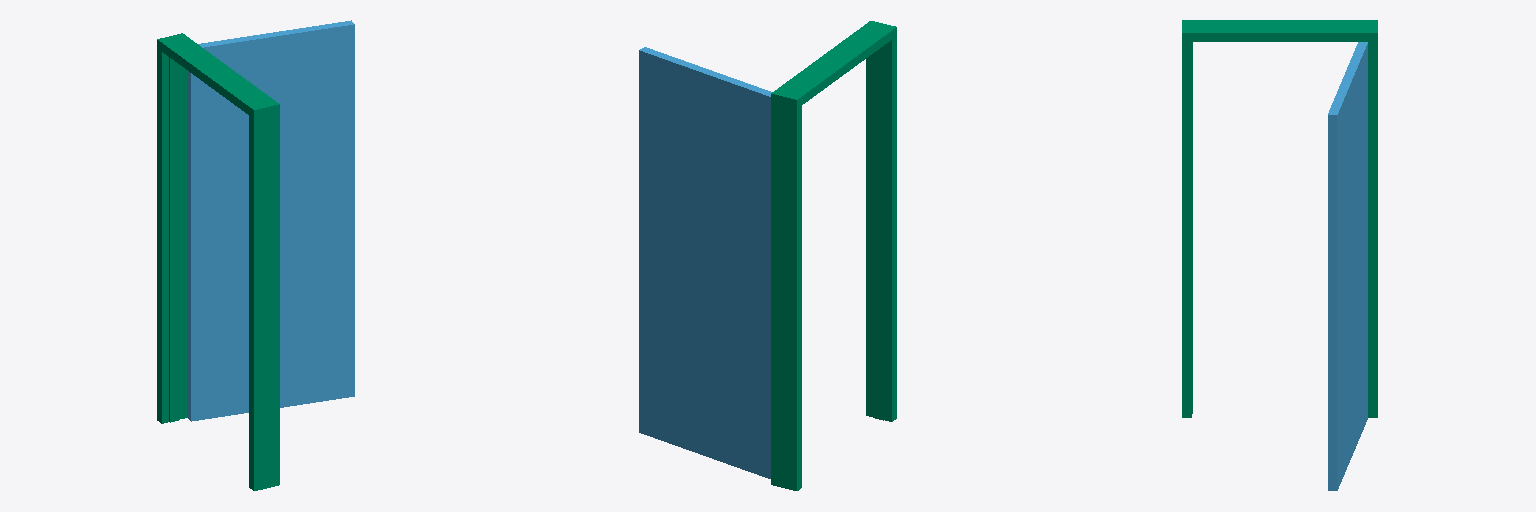
The robot description file, URDF, robot "partnet_36ae8016a104fc855a831e480312527":
<?xml version="1.0" ?>
<robot name="partnet_36ae8016a104fc855a831e480312527">
	<link name="base"/>
	<link name="link_0">
		<visual name="surface_board-3">
			<origin xyz="0.185722201829581 -0.7968090000000005 -0.19679270717073824"/>
			<geometry>
				<mesh filename="textured_objs/original-2.obj"/>
			</geometry>
		</visual>
		<collision>
			<origin xyz="0.185722201829581 -0.7968090000000005 -0.19679270717073824"/>
			<geometry>
				<mesh filename="textured_objs/original-2.obj"/>
			</geometry>
		</collision>
	</link>
	<joint name="joint_0" type="revolute">
		<origin xyz="-0.185722201829581 0.7968090000000005 0.19679270717073824"/>
		<axis xyz="0 1 0"/>
		<child link="link_0"/>
		<parent link="link_1"/>
		<limit lower="-1.413716694115407" upper="0.15707963267948966"/>
	</joint>
	<link name="link_1">
		<visual name="outside_frame-4">
			<origin xyz="0 0 0"/>
			<geometry>
				<mesh filename="textured_objs/original-1.obj"/>
			</geometry>
		</visual>
		<collision>
			<origin xyz="0 0 0"/>
			<geometry>
				<mesh filename="textured_objs/original-1.obj"/>
			</geometry>
		</collision>
	</link>
	<joint name="joint_1" type="fixed">
		<origin rpy="1.570796326794897 0 -1.570796326794897" xyz="0 0 0"/>
		<child link="link_1"/>
		<parent link="base"/>
	</joint>
</robot>

--- What the picture shows (computed from the rendered views, not written in the file) ---
Views: 3 orthographic renders of the robot side by side, from view 1: azimuth 30°, elevation 25°; view 2: azimuth 150°, elevation 25°; view 3: azimuth 270°, elevation 25°.
Robot: partnet_36ae8016a104fc855a831e480312527 — 3 links, 2 joints (1 revolute, 1 fixed); root link base; default pose: all joints at 0.
Links seen in each view (by area): view 1: link_0, link_1; view 2: link_0, link_1; view 3: link_0, link_1.
Boxes of the visible links, x1,y1,x2,y2 form: link_0: [188, 20, 354, 421]; link_1: [157, 33, 279, 490]; link_0: [639, 47, 771, 478]; link_1: [771, 21, 896, 490]; link_0: [1328, 42, 1367, 490]; link_1: [1182, 20, 1377, 417].
Bounding box of the posed robot: 0.7845 × 0.758 × 1.64 m (x, y, z).
2 mesh visuals loaded from 2 distinct referenced files (2 OBJ).
